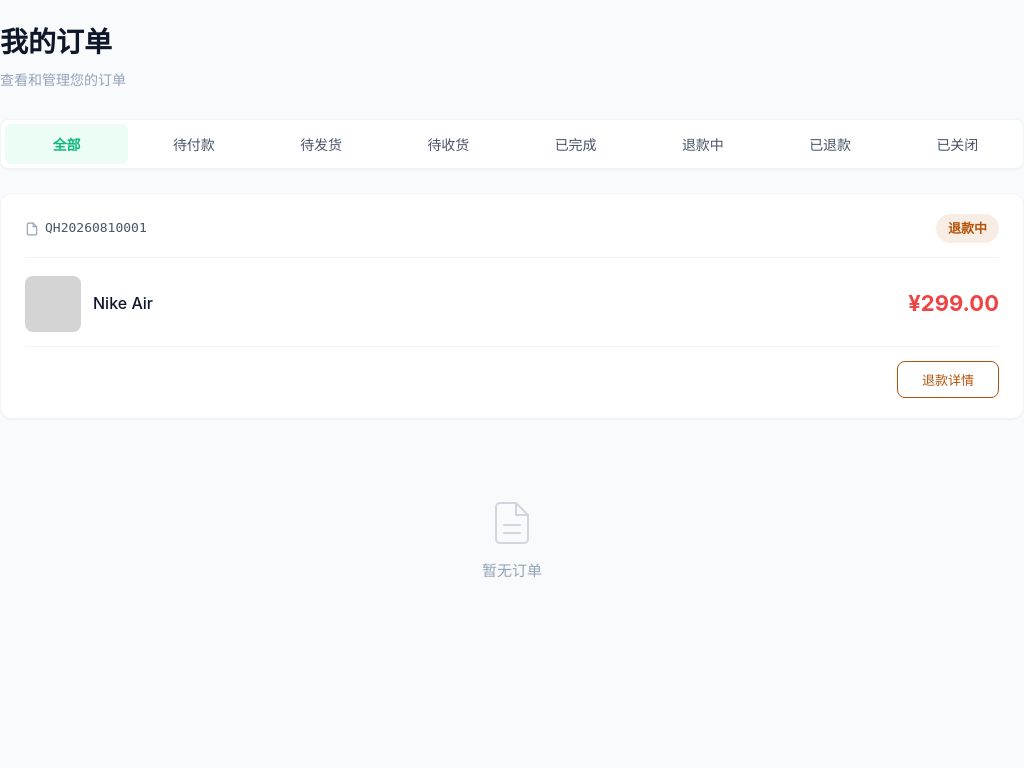
Test: Orders 订单中心页 › 退款详情弹窗（P2-18） › 退款中订单可查看退款申请历史
The width and height of the screenshot is (1024, 768).
Click the button with class "btn-refund".
click(948, 380)  # box [897,361,999,398]
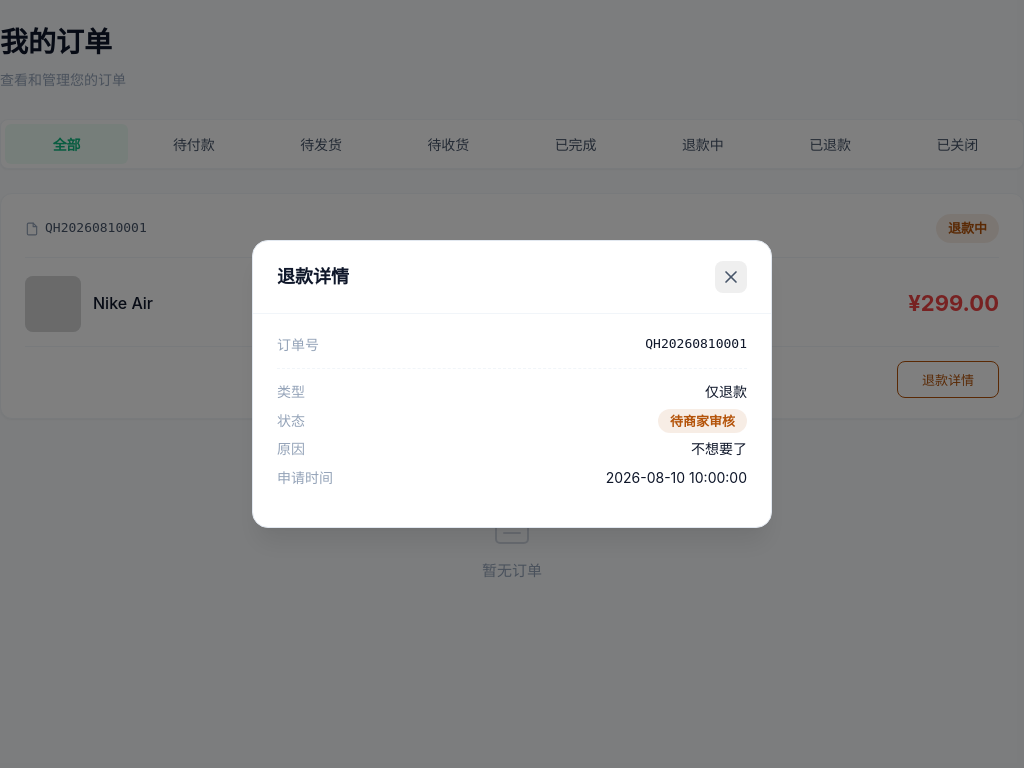
Result: the text "仅退款" is shown at [705,381,747,404]
Result: the text "待商家审核" is shown at [658,409,747,433]
Result: the text "不想要了" is shown at [691,438,747,461]
